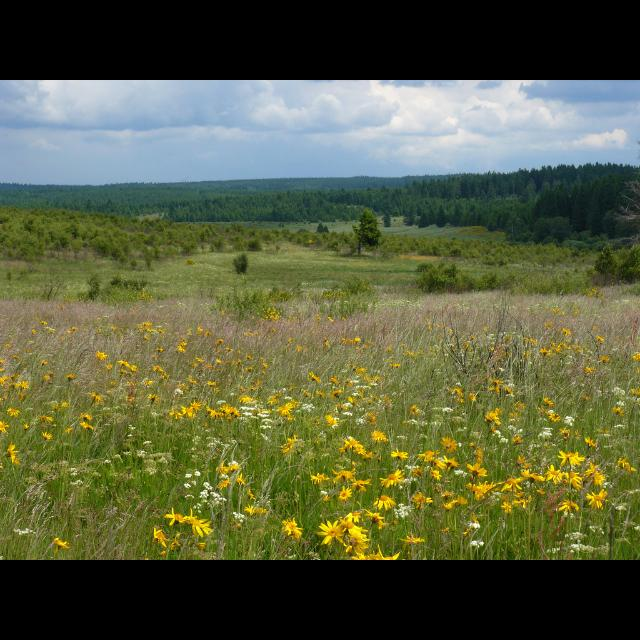Flower: (0, 287, 638, 559)
